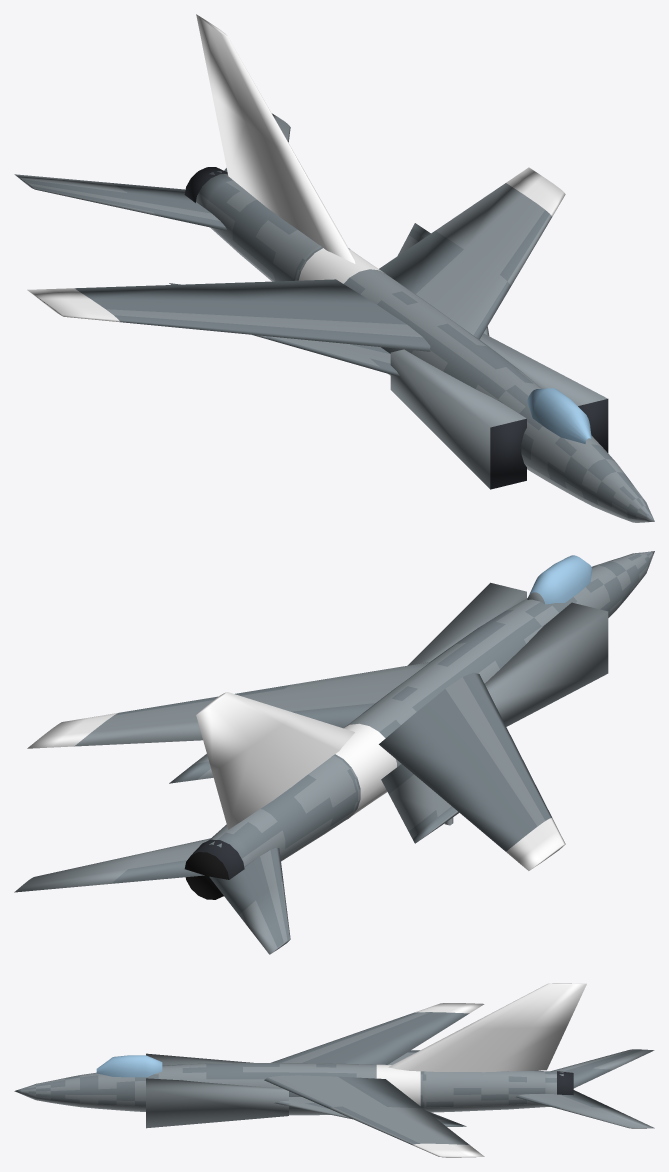
The model's file is mig23mld.glb.
The picture shows the model from 3 angles, top to bottom: view 1: azimuth 30°, elevation 25°; view 2: azimuth 150°, elevation 25°; view 3: azimuth 270°, elevation 25°; orthographic projection. The views are drawn at different scales.
Parts seen in each view (by area): view 1: body; view 2: body; view 3: body.
Part boxes in pixels (x1,y1,x2,y2): body: (14, 14, 654, 522); body: (14, 551, 654, 954); body: (14, 983, 654, 1157).
Bounding box in the file's own units: 11 × 4.33 × 19.47.
